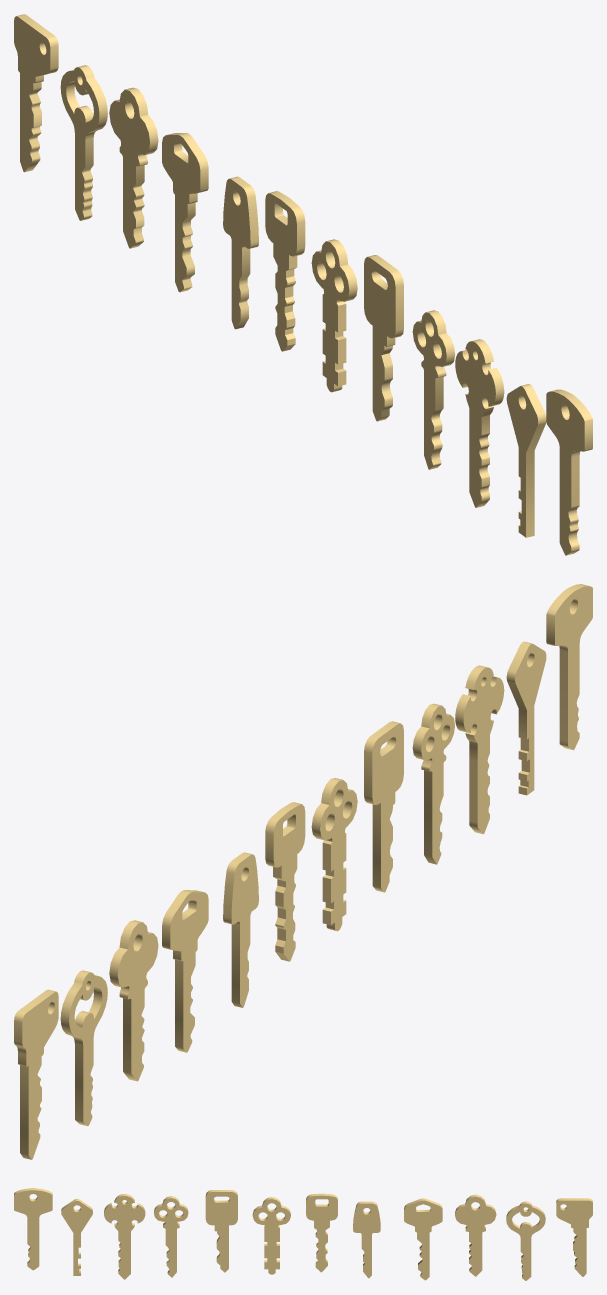
Rendered from keys.glb.
The picture shows the model from 3 angles, top to bottom: view 1: azimuth 30°, elevation 25°; view 2: azimuth 150°, elevation 25°; view 3: azimuth 270°, elevation 25°; orthographic projection. The views are drawn at different scales.
Visible parts, largest first — view 1: key_5, key_3, key_1, key_10, key_6, key_12, key_9, key_7, key_11, key_4, key_8, key_2; view 2: key_5, key_3, key_1, key_10, key_12, key_6, key_9, key_7, key_11, key_4, key_8, key_2; view 3: key_5, key_10, key_3, key_1, key_12, key_9, key_6, key_7, key_11, key_8, key_4, key_2.
Boxes of the visible parts, <box> form: key_5: <box>364,255,403,421</box>; key_3: <box>455,339,504,507</box>; key_1: <box>546,389,592,555</box>; key_10: <box>109,87,158,248</box>; key_6: <box>311,239,357,392</box>; key_12: <box>14,14,58,172</box>; key_9: <box>162,133,208,292</box>; key_7: <box>265,191,305,351</box>; key_11: <box>60,65,107,220</box>; key_4: <box>412,310,455,469</box>; key_8: <box>223,176,258,329</box>; key_2: <box>506,384,546,537</box>; key_5: <box>364,721,403,892</box>; key_3: <box>455,665,504,834</box>; key_1: <box>546,584,592,750</box>; key_10: <box>109,920,158,1081</box>; key_12: <box>14,989,58,1159</box>; key_6: <box>311,778,357,931</box>; key_9: <box>162,890,208,1052</box>; key_7: <box>265,802,305,961</box>; key_11: <box>60,970,107,1126</box>; key_4: <box>412,703,454,864</box>; key_8: <box>223,852,258,1007</box>; key_2: <box>506,641,546,795</box>; key_5: <box>205,1190,237,1272</box>; key_10: <box>455,1194,496,1276</box>; key_3: <box>104,1194,145,1279</box>; key_1: <box>14,1188,52,1270</box>; key_12: <box>556,1198,592,1276</box>; key_9: <box>404,1198,442,1280</box>; key_6: <box>252,1197,290,1274</box>; key_7: <box>306,1193,337,1272</box>; key_11: <box>506,1201,545,1280</box>; key_8: <box>353,1201,380,1278</box>; key_4: <box>154,1196,188,1277</box>; key_2: <box>61,1198,92,1275</box>.
Size of the model in its own units: 0.00626 by 0.1187 by 0.6872.
1 material, 1 textured.
